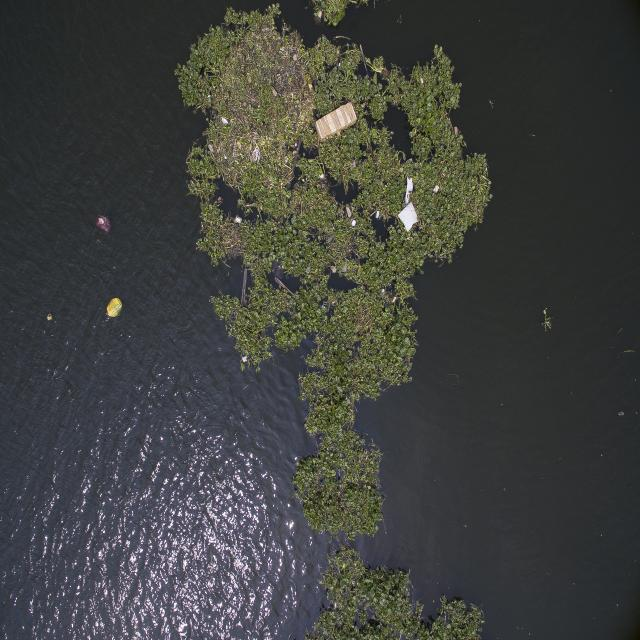plastic: (302, 96, 372, 151), (389, 178, 432, 238), (102, 288, 136, 332), (90, 206, 120, 243), (248, 139, 268, 173), (218, 111, 233, 134)
